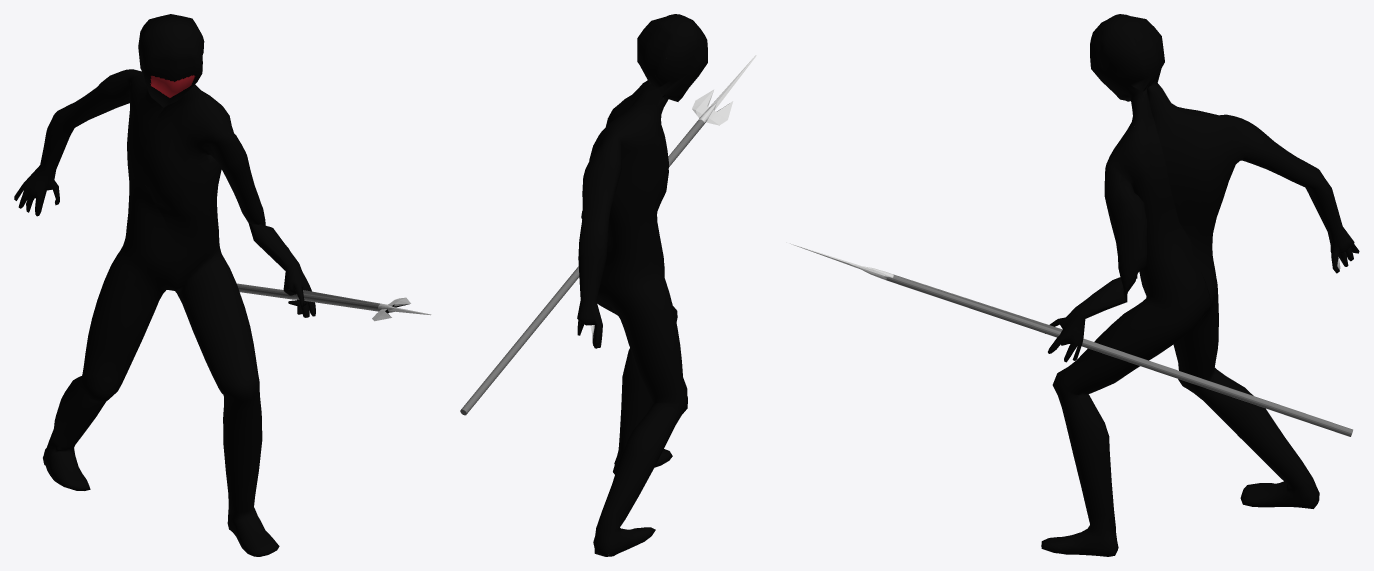
The model's file is boss_rush_after.obj.
3 renders of one model, left to right at view 1: azimuth 30°, elevation 25°; view 2: azimuth 150°, elevation 25°; view 3: azimuth 270°, elevation 25°, orthographic. The views are drawn at different scales.
Parts seen in each view (by area): view 1: Cube_Cube.001; view 2: Cube_Cube.001; view 3: Cube_Cube.001.
Part boxes in pixels (x1,y1,x2,y2): Cube_Cube.001: (14, 14, 431, 556); Cube_Cube.001: (460, 14, 756, 556); Cube_Cube.001: (789, 14, 1359, 556).
Bounding box in the file's own units: 2.13 × 6.38 × 6.55.
1 material, 1 textured.
